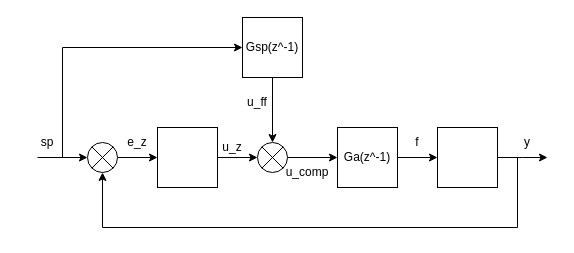
Some shapes in this 574 by 253 pixel diagram are drawn without their labels. The shapes that lost their labels are listed below. From the top down, each one's centre as x and y in pixels, then its label:
At (x=187, y=157): "Gc(z^-1)".
At (x=467, y=157): "Gp(z^-1)".
